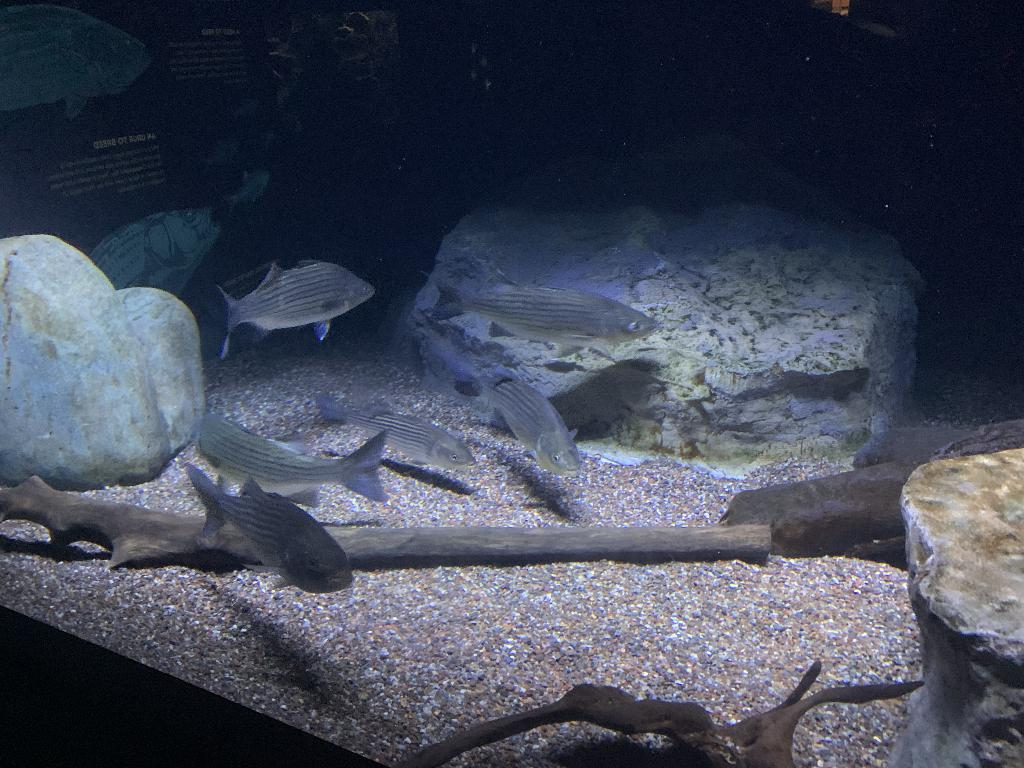fish: (178, 456, 354, 594), (426, 272, 666, 358), (193, 412, 391, 506), (450, 350, 586, 478), (212, 257, 376, 359), (313, 391, 477, 470)
